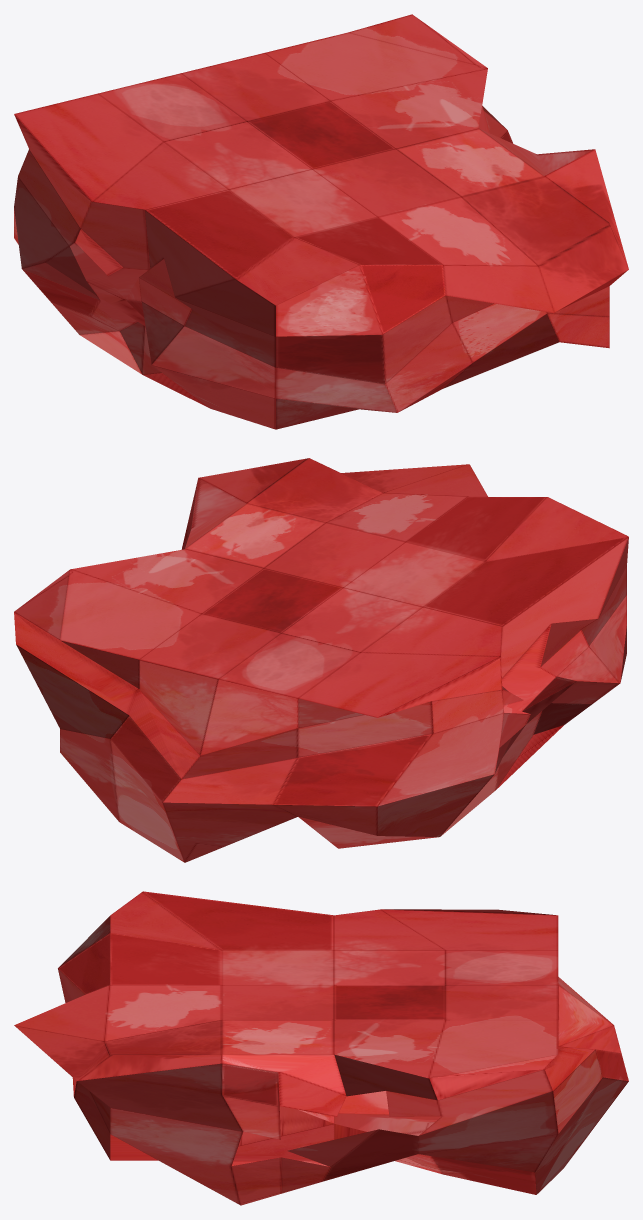
File: explosive.fbx
3 views of the same model, one above another, from view 1: azimuth 30°, elevation 25°; view 2: azimuth 150°, elevation 25°; view 3: azimuth 270°, elevation 25° (orthographic). The views are drawn at different scales.
Parts seen in each view (by area): view 1: Cube; view 2: Cube; view 3: Cube.
Boxes of the visible parts, box(x1,y1,x2,y2) form: Cube: box(14, 14, 628, 429); Cube: box(14, 458, 628, 862); Cube: box(14, 891, 628, 1205).
Size of the model in its own units: 7.94 by 3.54 by 10.51.
1 material, 1 textured.
